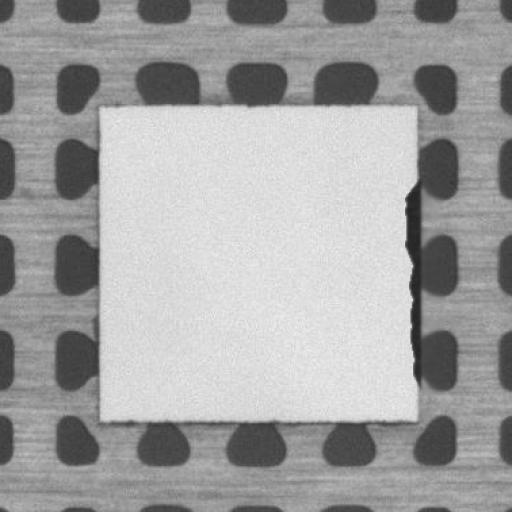DIE_BROKEN: (400, 182, 422, 388)
